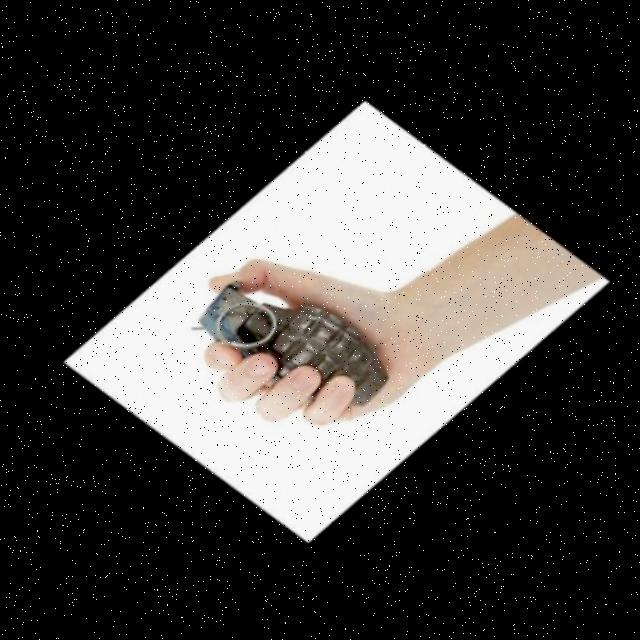grenade: (170, 253, 412, 446)
